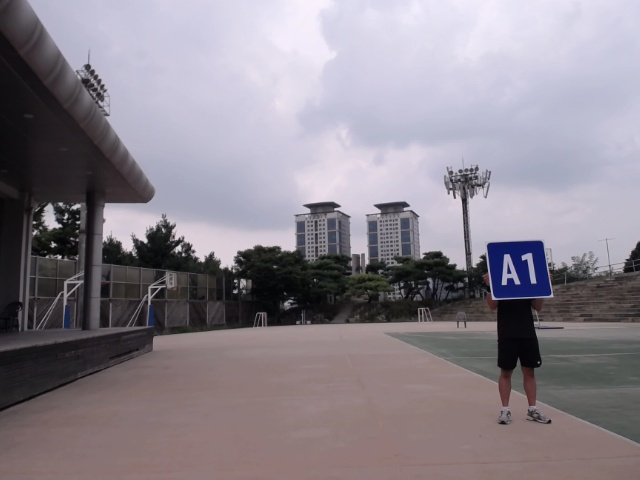delivery_a1: (486, 241, 552, 300)
